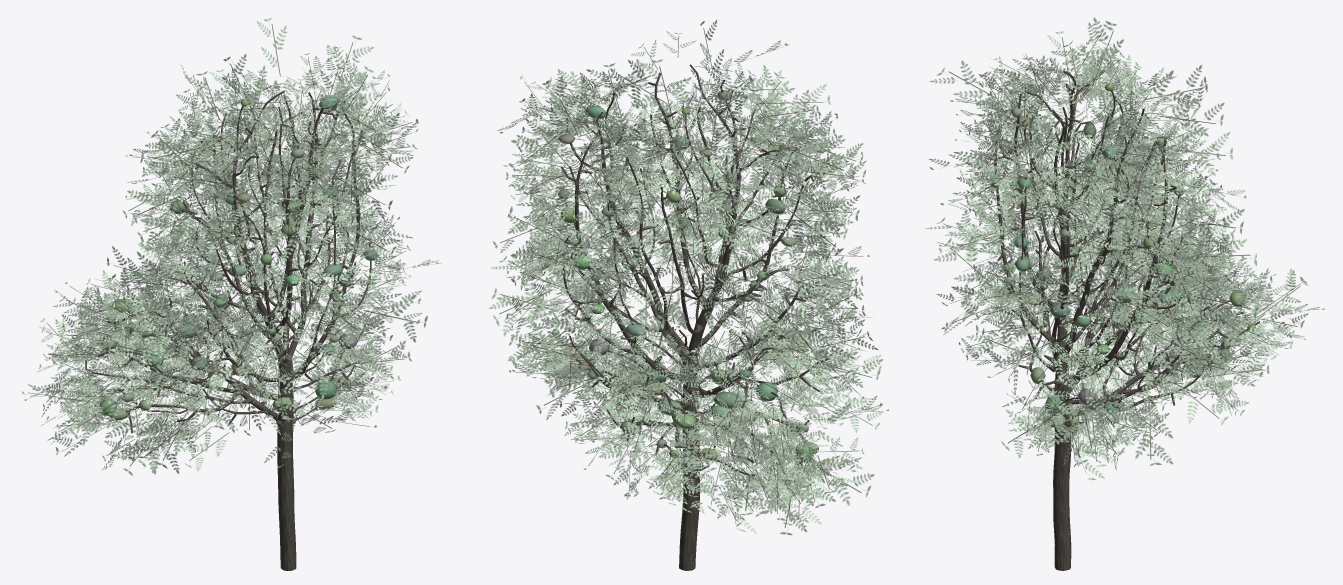
File: tree_19_broadleaf.glb
3 renders of one model, left to right at view 1: azimuth 30°, elevation 25°; view 2: azimuth 150°, elevation 25°; view 3: azimuth 270°, elevation 25°, orthographic. The views are drawn at different scales.
Visible parts, largest first — view 1: tree_19_broadleaf.leaves, tree_19_broadleaf.trunk_branches, tree_19_broadleaf.foliage_volume; view 2: tree_19_broadleaf.leaves, tree_19_broadleaf.trunk_branches, tree_19_broadleaf.foliage_volume; view 3: tree_19_broadleaf.leaves, tree_19_broadleaf.trunk_branches, tree_19_broadleaf.foliage_volume.
Boxes of the visible parts, left/top/right/bottom form: tree_19_broadleaf.leaves: left=21, top=18, right=441, bottom=475; tree_19_broadleaf.trunk_branches: left=85, top=90, right=371, bottom=570; tree_19_broadleaf.foliage_volume: left=99, top=96, right=377, bottom=420; tree_19_broadleaf.leaves: left=489, top=20, right=888, bottom=535; tree_19_broadleaf.trunk_branches: left=561, top=64, right=828, bottom=570; tree_19_broadleaf.foliage_volume: left=558, top=90, right=818, bottom=471; tree_19_broadleaf.leaves: left=925, top=17, right=1324, bottom=480; tree_19_broadleaf.trunk_branches: left=994, top=71, right=1259, bottom=570; tree_19_broadleaf.foliage_volume: left=989, top=83, right=1255, bottom=432.
Bounding box in the file's own units: 9.07 × 12.07 × 8.37.
3 materials, 2 textured.
